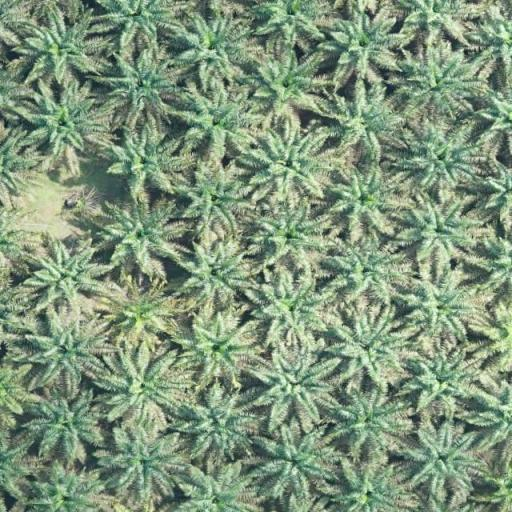Ganoderma: (118, 292, 168, 338)
